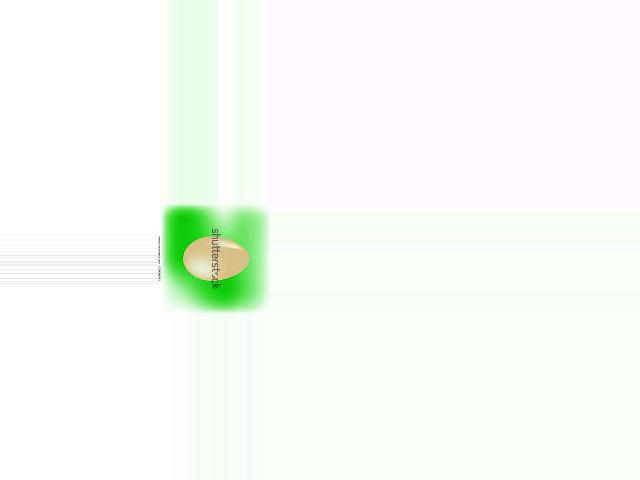egg: (183, 237, 249, 281)
